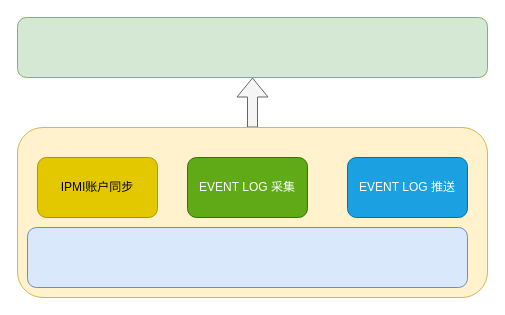
This 505x315 diagram has some shape labels left out. The shapes that lost their labels are listed below. From the top down, each one's centre as x and y in pixels, then its label:
At [252,47]: "AXE-JOB-AGENT".
At [247,257]: "IPMI-EXPORTER".
